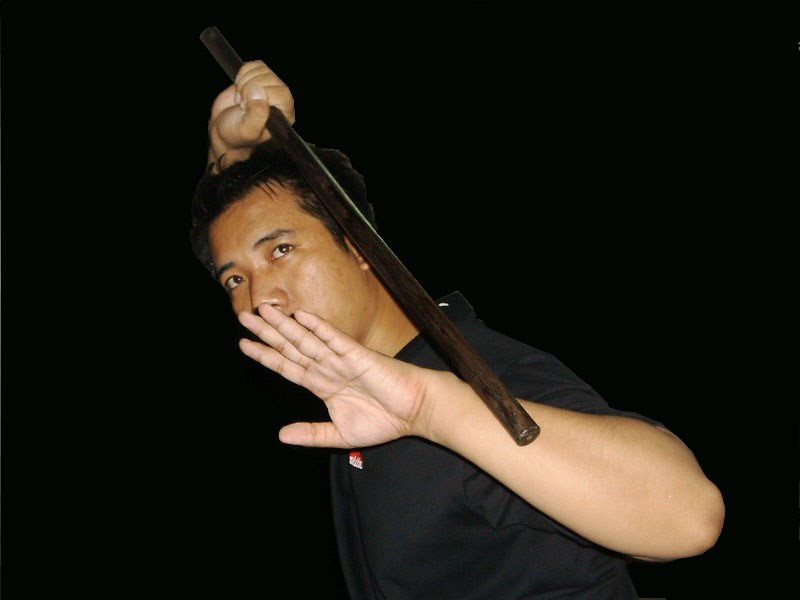baston_e: (223, 34, 511, 436)
baston_v: (502, 410, 551, 454), (188, 17, 234, 49)
